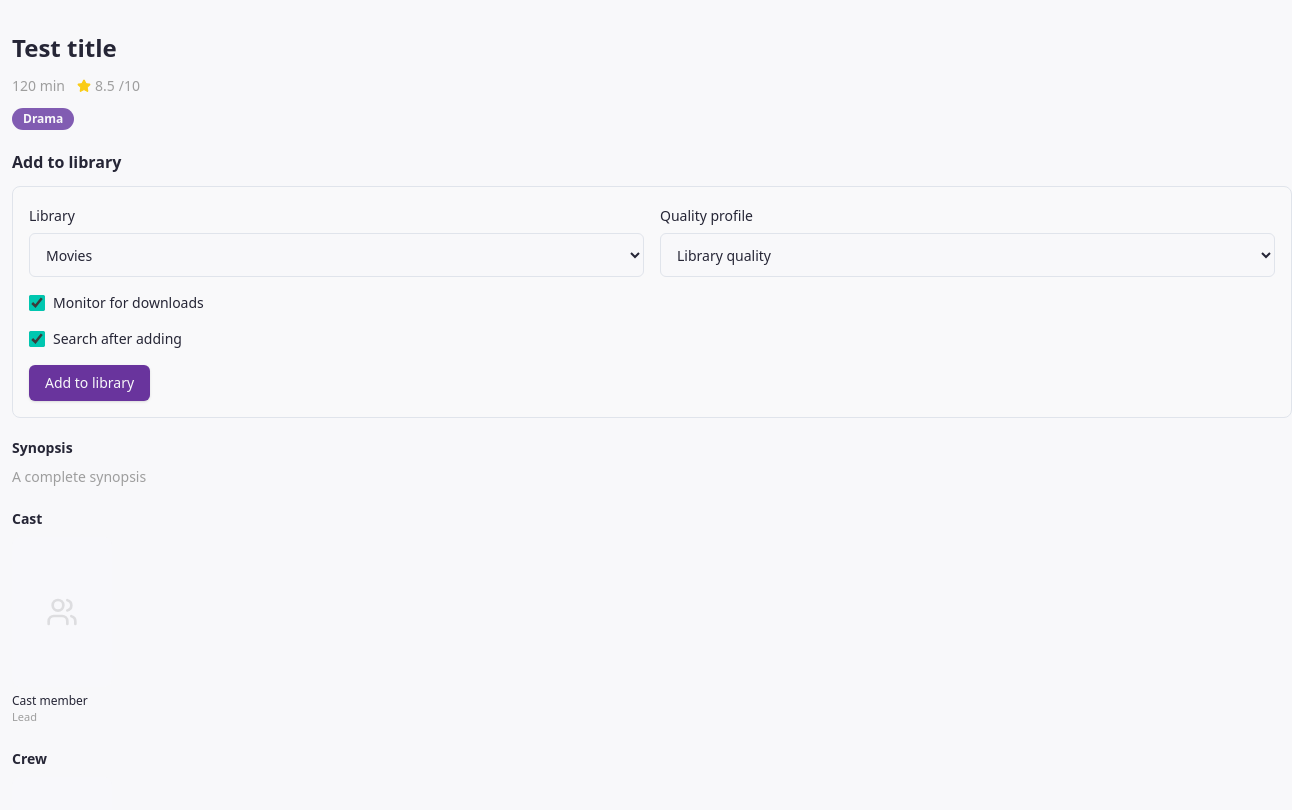
Test: shared title details and settings › prevents a second add if another entry point added the provider identity
Click the button "Add to library" at point(90, 383), box [29,365,150,401]
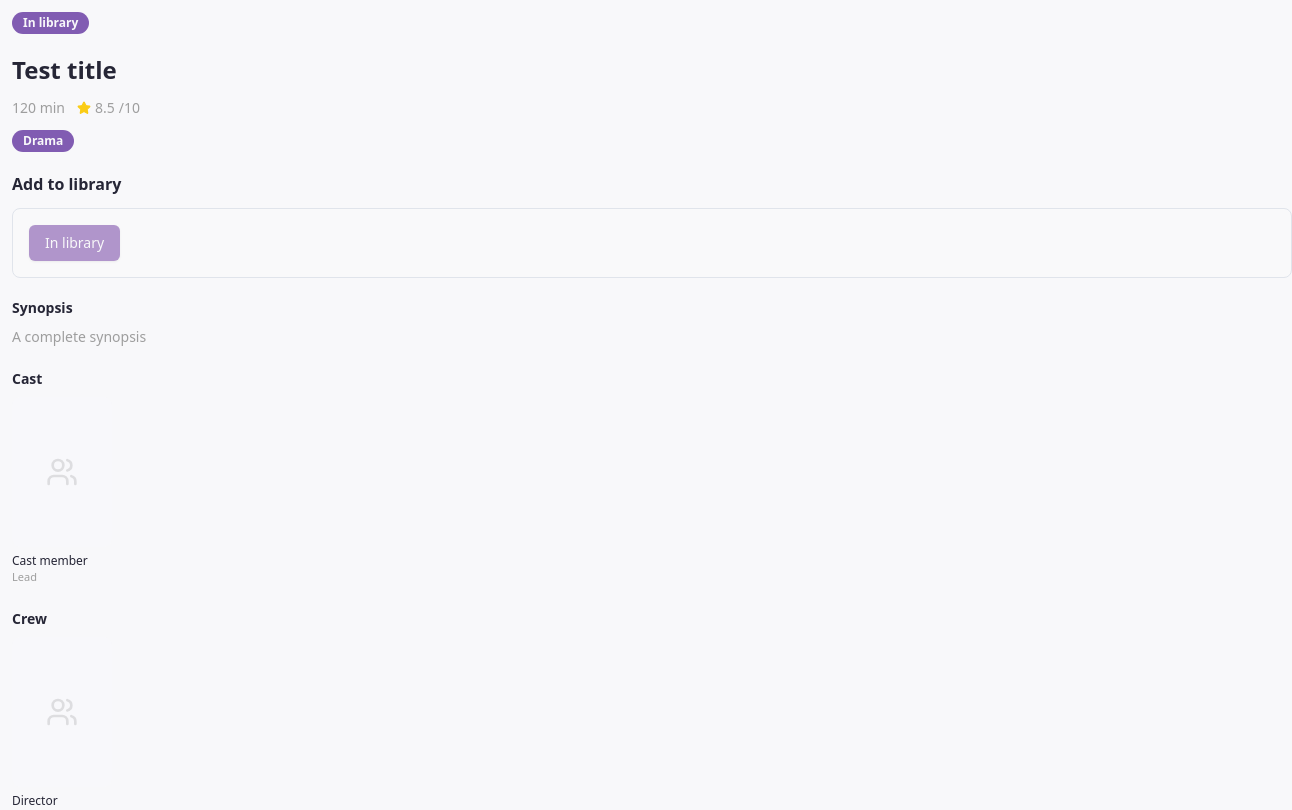
expect the button "In library" is shown: met, box [29,225,120,261]
